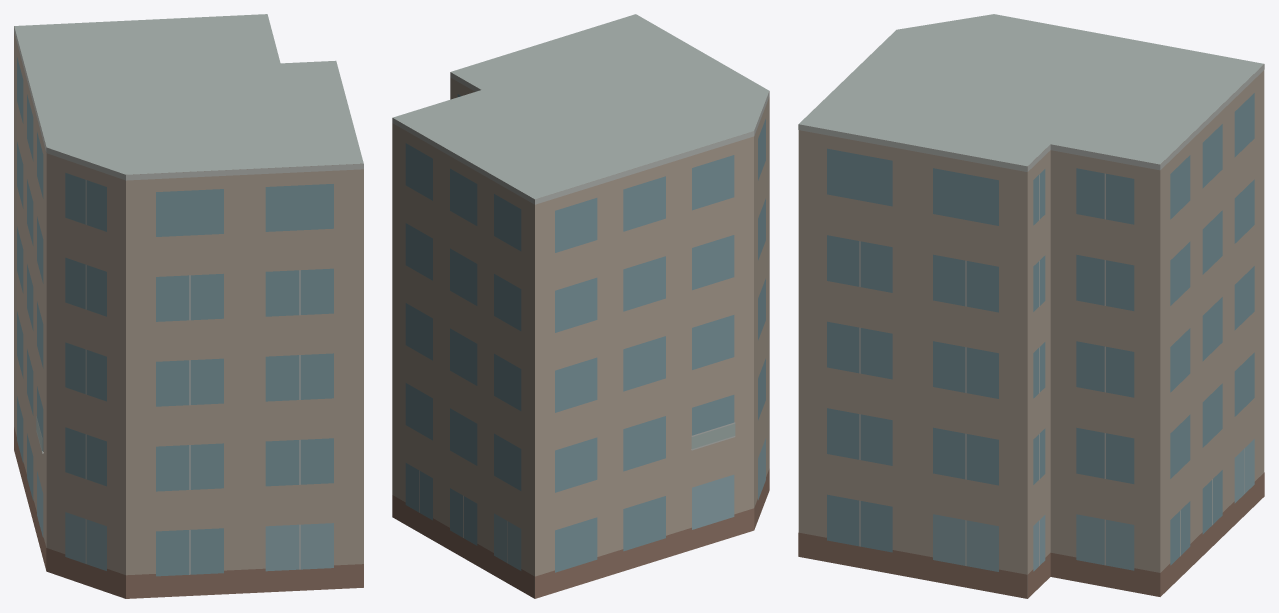
Rendered from survey-upis-32532377.glb.
3 views of the same model, side by side, from view 1: azimuth 30°, elevation 25°; view 2: azimuth 150°, elevation 25°; view 3: azimuth 270°, elevation 25° (orthographic). The views are drawn at different scales.
Visible parts, largest first — view 1: survey-upis-32532377.tmp; view 2: survey-upis-32532377.tmp; view 3: survey-upis-32532377.tmp.
Part boxes in pixels (x1,y1,x2,y2): survey-upis-32532377.tmp: (14,14,363,598); survey-upis-32532377.tmp: (392,14,769,598); survey-upis-32532377.tmp: (798,14,1264,598).
Size of the model in its own units: 13.66 by 18.07 by 17.65.
